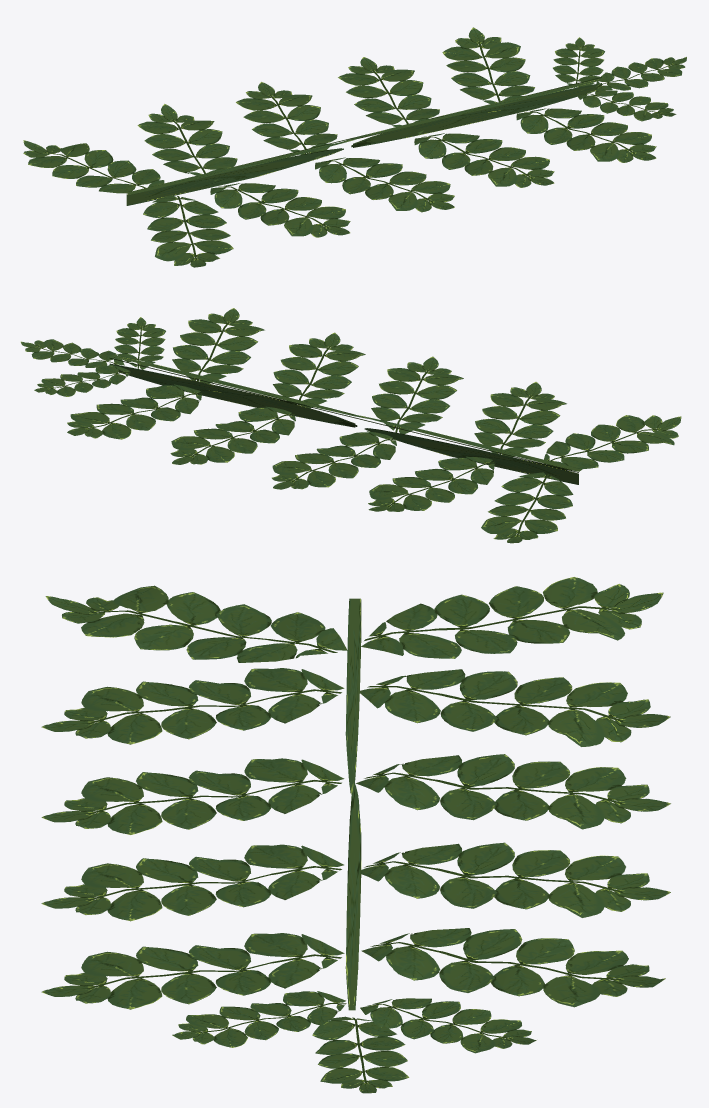
The model's file is planta.fbx.
3 renders of one model, top to bottom at view 1: azimuth 30°, elevation 25°; view 2: azimuth 150°, elevation 25°; view 3: azimuth 270°, elevation 25°, orthographic. The views are drawn at different scales.
Visible parts, largest first — view 1: pasted__pasted__pasted__pasted__pPlane2 (×4), pasted__pasted__pasted__pPlane2 (×3), pasted__pasted__pasted__pasted__pasted__pPlane2 (×2), pasted__pCube1, pasted__pasted__pPlane2 (×2), pasted__pasted__pasted__pasted__pasted__pasted__pPlane2, pasted__pPlane2; view 2: pasted__pasted__pasted__pasted__pPlane2 (×4), pasted__pasted__pasted__pPlane2 (×3), pasted__pasted__pasted__pasted__pasted__pPlane2 (×2), pasted__pCube1, pasted__pasted__pPlane2 (×2), pasted__pasted__pasted__pasted__pasted__pasted__pPlane2, pasted__pPlane2; view 3: pasted__pasted__pasted__pasted__pPlane2 (×4), pasted__pasted__pasted__pPlane2 (×3), pasted__pasted__pasted__pasted__pasted__pPlane2 (×2), pasted__pasted__pPlane2 (×2), pasted__pPlane2, pasted__pasted__pasted__pasted__pasted__pasted__pPlane2, pasted__pCube1.
Part boxes in pixels (x1=…): pasted__pasted__pasted__pasted__pPlane2 (×4): x1=137, y1=90, x2=676, y2=212; pasted__pasted__pasted__pPlane2 (×3): x1=236, y1=57, x2=686, y2=187; pasted__pasted__pasted__pasted__pasted__pPlane2 (×2): x1=23, y1=140, x2=350, y2=237; pasted__pCube1: x1=126, y1=77, x2=604, y2=205; pasted__pasted__pPlane2 (×2): x1=338, y1=37, x2=604, y2=134; pasted__pasted__pasted__pasted__pasted__pasted__pPlane2: x1=143, y1=195, x2=233, y2=267; pasted__pPlane2: x1=442, y1=27, x2=534, y2=103; pasted__pasted__pasted__pasted__pPlane2 (×4): x1=114, y1=308, x2=494, y2=511; pasted__pasted__pasted__pPlane2 (×3): x1=20, y1=332, x2=396, y2=489; pasted__pasted__pasted__pasted__pasted__pPlane2 (×2): x1=474, y1=382, x2=573, y2=543; pasted__pCube1: x1=109, y1=355, x2=581, y2=484; pasted__pasted__pPlane2 (×2): x1=34, y1=365, x2=295, y2=464; pasted__pasted__pasted__pasted__pasted__pasted__pPlane2: x1=544, y1=415, x2=681, y2=469; pasted__pPlane2: x1=67, y1=384, x2=201, y2=439; pasted__pasted__pasted__pasted__pPlane2 (×4): x1=41, y1=669, x2=670, y2=1047; pasted__pasted__pasted__pPlane2 (×3): x1=41, y1=754, x2=670, y2=1093; pasted__pasted__pasted__pasted__pasted__pPlane2 (×2): x1=41, y1=577, x2=663, y2=744; pasted__pasted__pPlane2 (×2): x1=360, y1=842, x2=670, y2=1053; pasted__pPlane2: x1=361, y1=928, x2=665, y2=1007; pasted__pasted__pasted__pasted__pasted__pasted__pPlane2: x1=45, y1=585, x2=347, y2=662; pasted__pCube1: x1=345, y1=598, x2=361, y2=1010.
Size of the model in its own units: 811 by 26.14 by 438.
